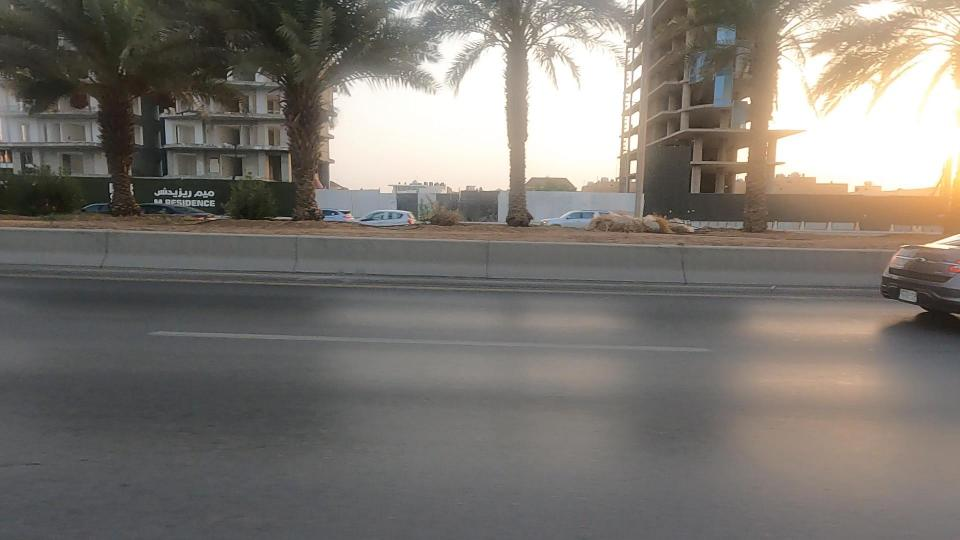GARBAGE: (608, 190, 718, 262), (544, 188, 654, 259)
